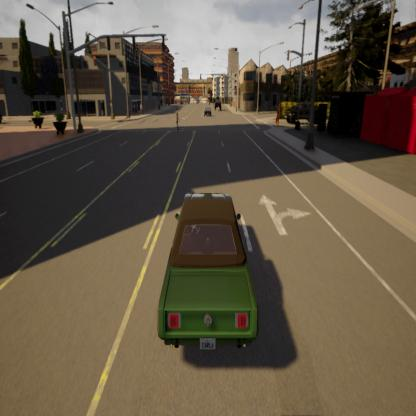Cars: (156, 175, 261, 371), (285, 98, 324, 124), (203, 99, 212, 124), (214, 91, 221, 114)
Pedestrian: (173, 93, 184, 132), (274, 100, 282, 138)
